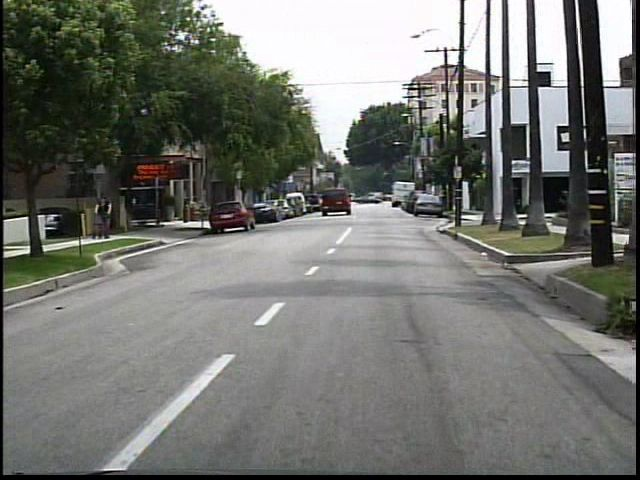person: (91, 193, 116, 243)
